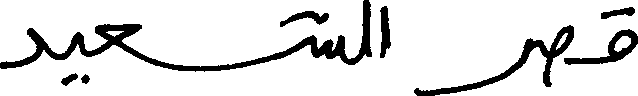ا: (377, 3, 391, 58)
د: (0, 26, 45, 69)
ر: (412, 36, 532, 94)
س: (307, 9, 342, 63)
ص: (549, 23, 574, 87)
ع: (95, 22, 140, 61)
ق: (604, 5, 636, 63)
ل: (359, 0, 371, 61)
ي: (59, 30, 88, 86)
